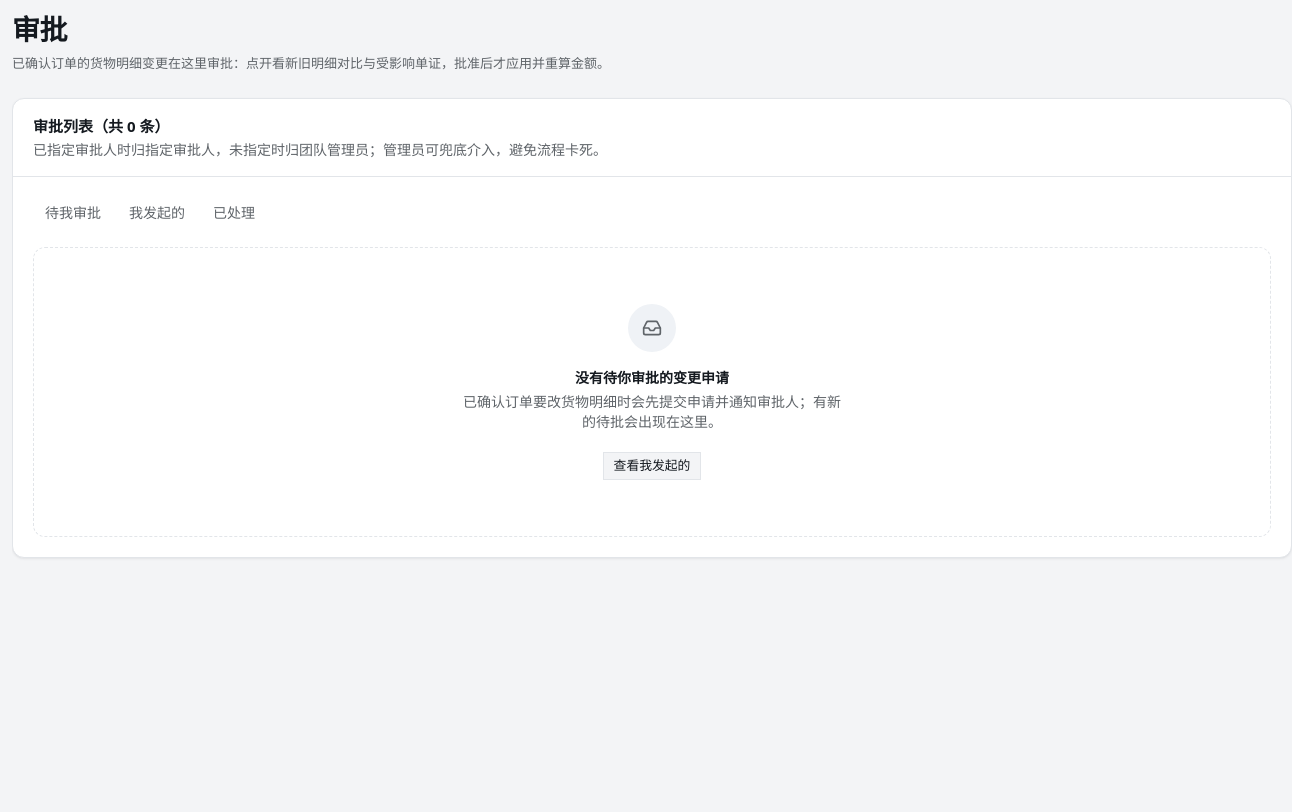
Test: 审批中心三视图 › 空列表：三种视图各自的空态文案（不只一行「暂无数据」）
The image size is (1292, 812).
What coordinates should you click on to do the following:
click the tab "我发起的"
I would click on:
 (157, 214)
Its box is [117,197,197,231].
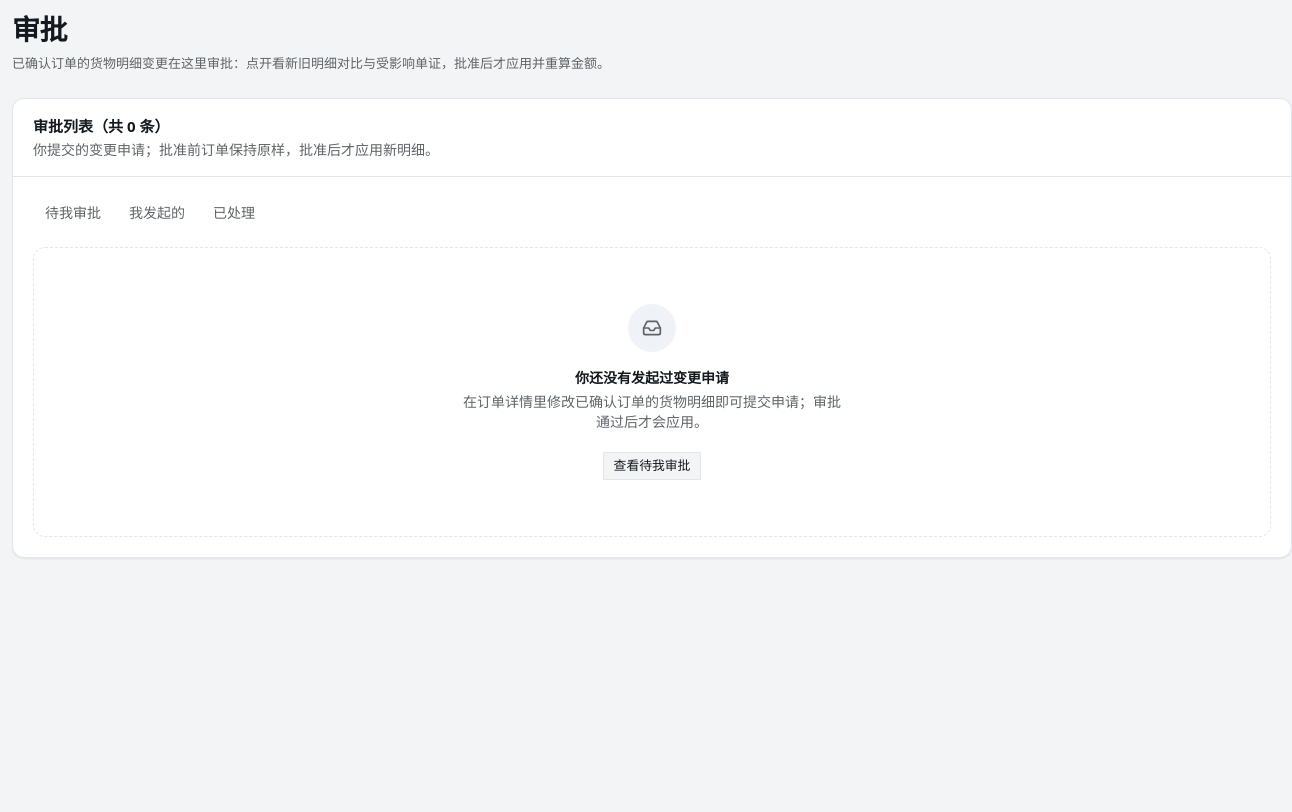
expect the text "你还没有发起过变更申请" is shown: met, box [575,368,729,388]
What coordinates should you click on to do the following:
click the tab "已处理"
I would click on:
 (234, 214)
Its box is [201,197,267,231].
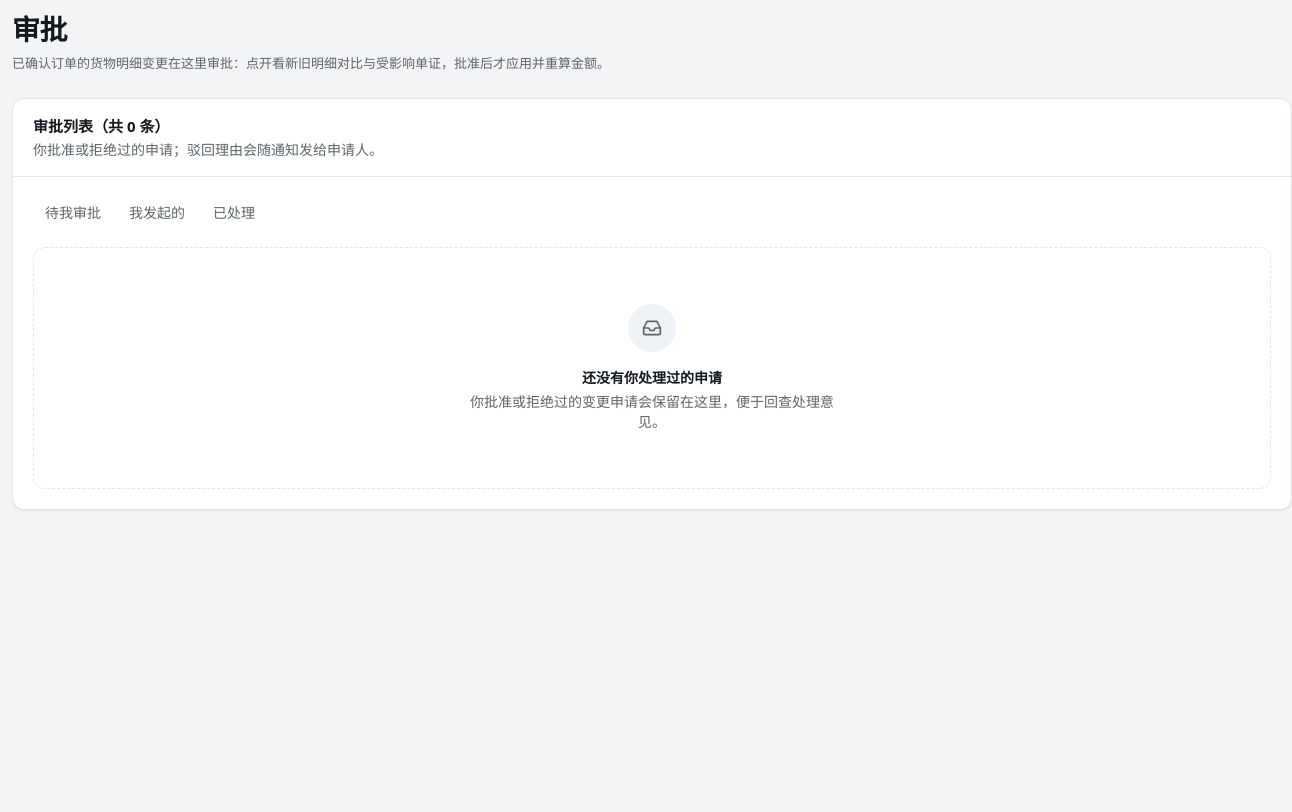
expect the text "还没有你处理过的申请" is shown: met, box [582,368,722,388]
